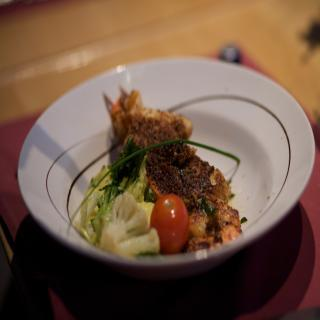tomato: (150, 194, 189, 252)
